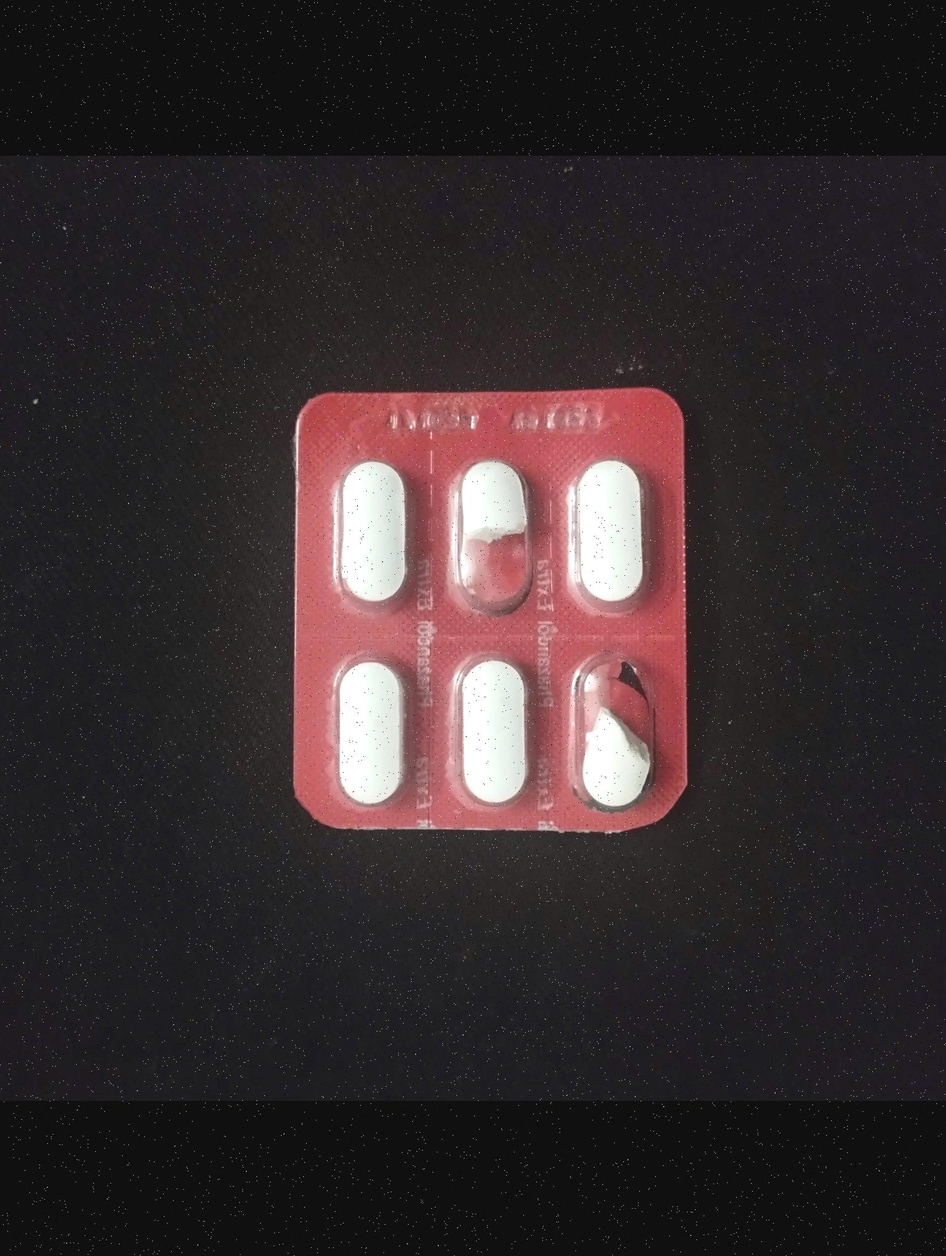Full: (329, 445, 422, 613), (331, 656, 418, 809), (449, 656, 537, 806), (567, 457, 650, 613)
Partial: (561, 659, 661, 810), (445, 454, 539, 611)
